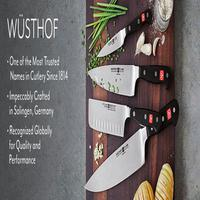knife: (81, 104, 179, 190), (85, 94, 166, 137), (85, 63, 174, 96), (94, 7, 148, 61)
